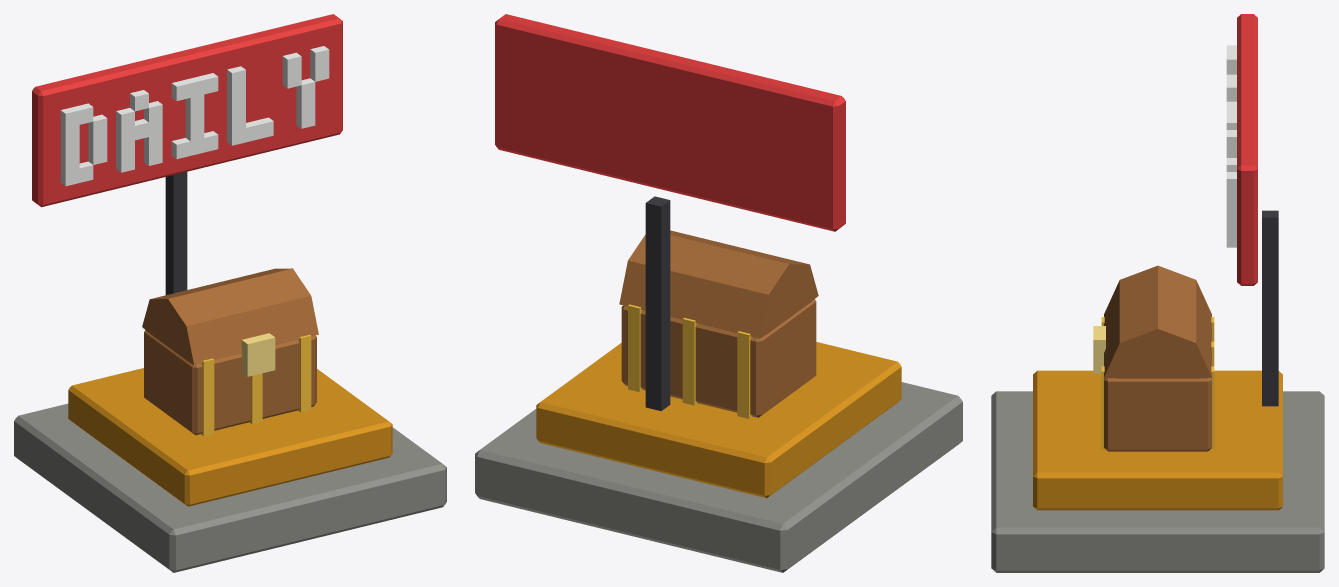
Rendered from DailyRewardChest.fbx.
3 views of the same model, side by side, from view 1: azimuth 30°, elevation 25°; view 2: azimuth 150°, elevation 25°; view 3: azimuth 270°, elevation 25° (orthographic). The views are drawn at different scales.
Parts seen in each view (by area): view 1: DailyRewardChest; view 2: DailyRewardChest; view 3: DailyRewardChest.
Boxes of the visible parts, box(x1,y1,x2,y2) form: DailyRewardChest: box(14, 14, 446, 572); DailyRewardChest: box(475, 14, 962, 572); DailyRewardChest: box(991, 14, 1324, 572).
Size of the model in its own units: 8.8 by 11 by 8.
Materials: 1 (1 with a texture image).
